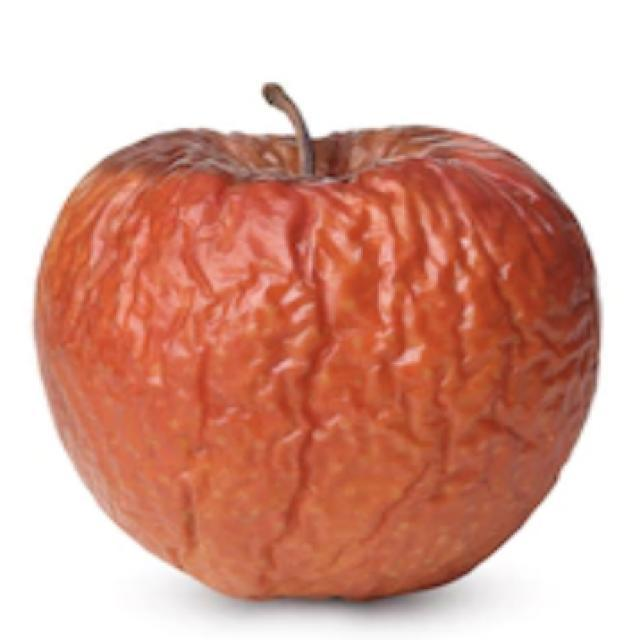Rotten: (36, 121, 598, 610)
